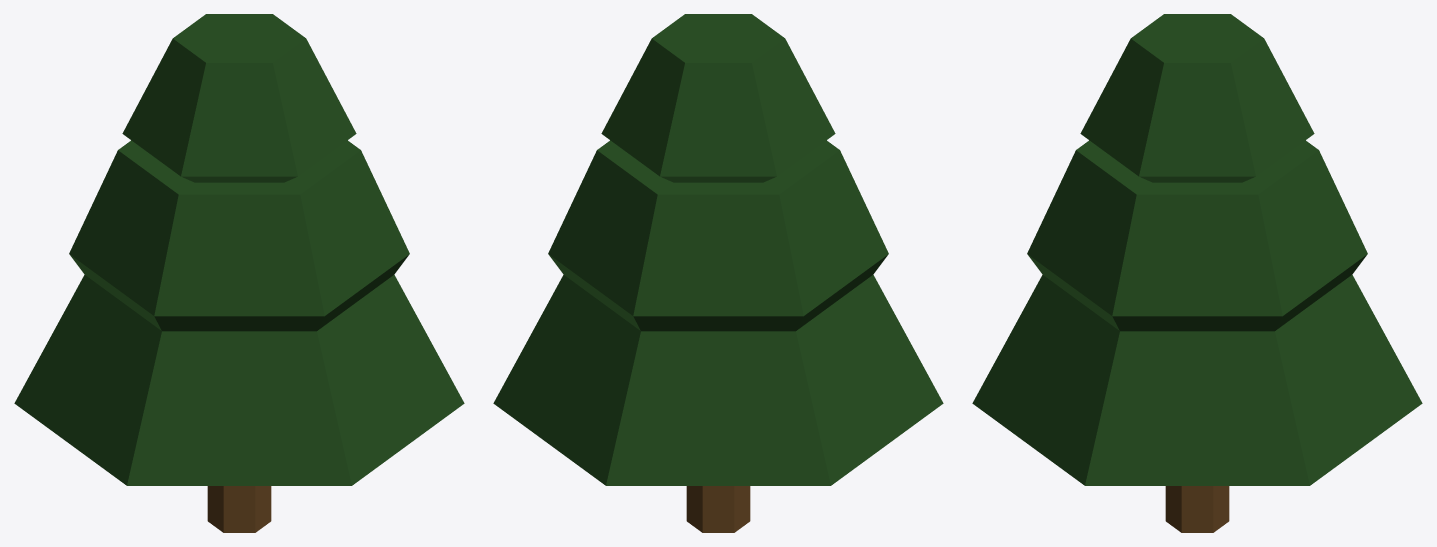
The model's file is Tree.fbx.
3 views of the same model, side by side, from view 1: azimuth 30°, elevation 25°; view 2: azimuth 150°, elevation 25°; view 3: azimuth 270°, elevation 25° (orthographic).
Visible parts, largest first — view 1: Tree; view 2: Tree; view 3: Tree.
Boxes of the visible parts, box(x1,y1,x2,y2) form: Tree: box(14, 14, 464, 532); Tree: box(493, 14, 943, 532); Tree: box(972, 14, 1422, 532).
Bounding box in the file's own units: 397 × 542 × 458.
